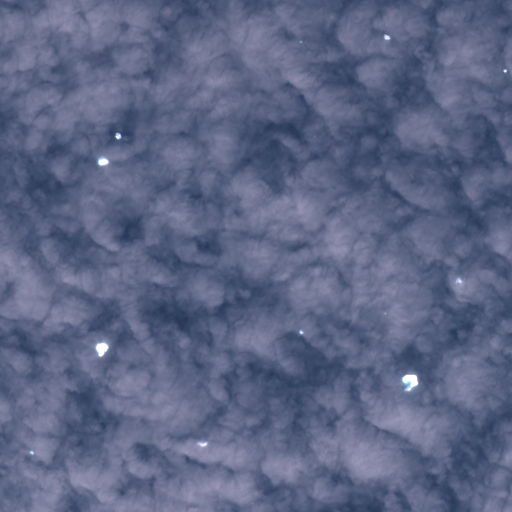Iceberg: (402, 374, 418, 390), (96, 342, 108, 356), (97, 157, 109, 165), (197, 441, 207, 446), (115, 132, 121, 139), (455, 277, 461, 283), (384, 34, 390, 39), (299, 329, 303, 334), (29, 450, 33, 454), (503, 69, 506, 72), (299, 41, 302, 43), (384, 312, 386, 314)
